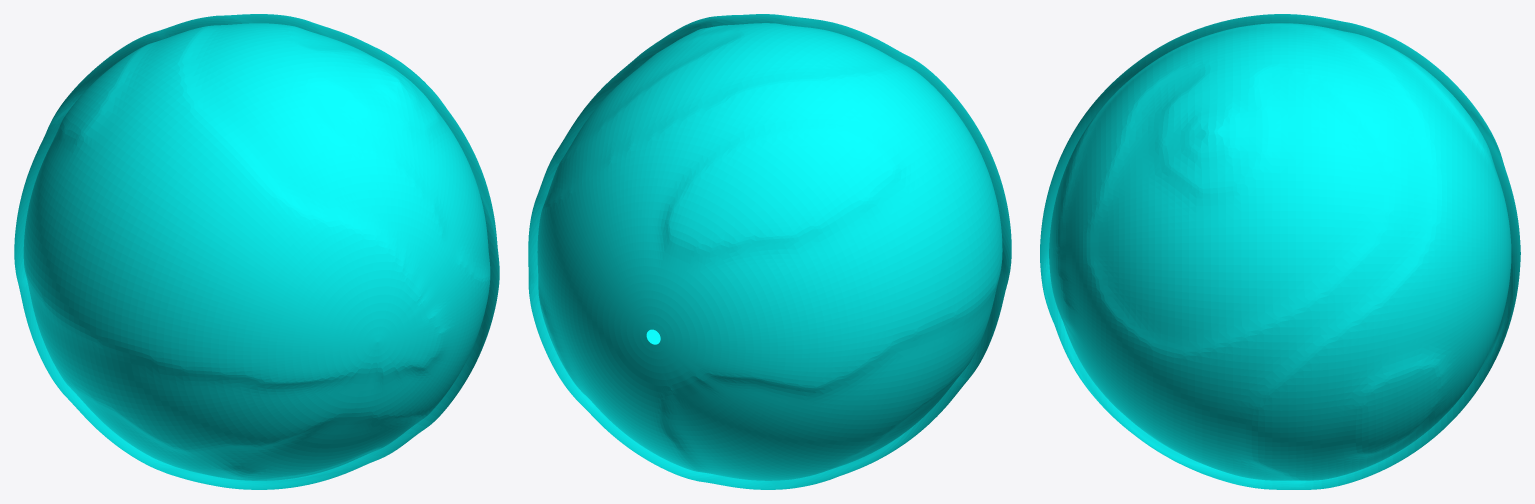
3 renders of one model, left to right at view 1: azimuth 30°, elevation 25°; view 2: azimuth 150°, elevation 25°; view 3: azimuth 270°, elevation 25°, orthographic. The views are drawn at different scales.
Visible parts, largest first — view 1: Renderer Node; view 2: Renderer Node; view 3: Renderer Node.
Part boxes in pixels (x1,y1,x2,y2): Renderer Node: (14, 14, 499, 489); Renderer Node: (528, 14, 1011, 489); Renderer Node: (1040, 14, 1520, 489).
Bounding box in the file's own units: 1.59e+16 × 1.57e+16 × 1.6e+16.
